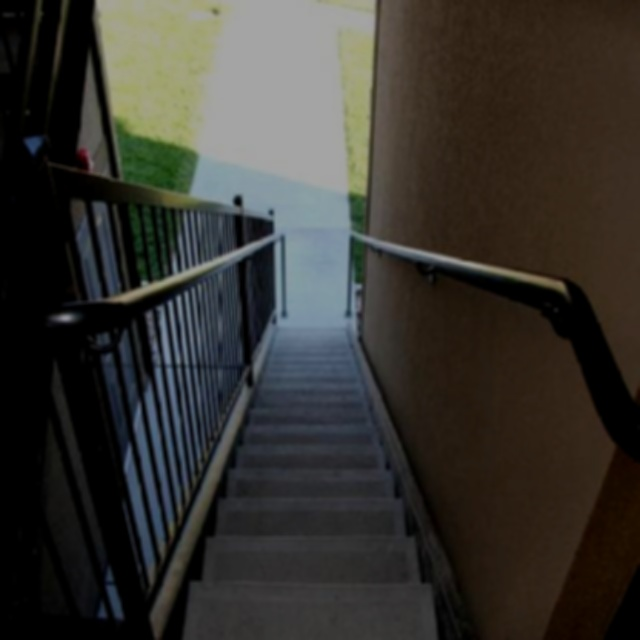stair: (141, 154, 519, 638)
